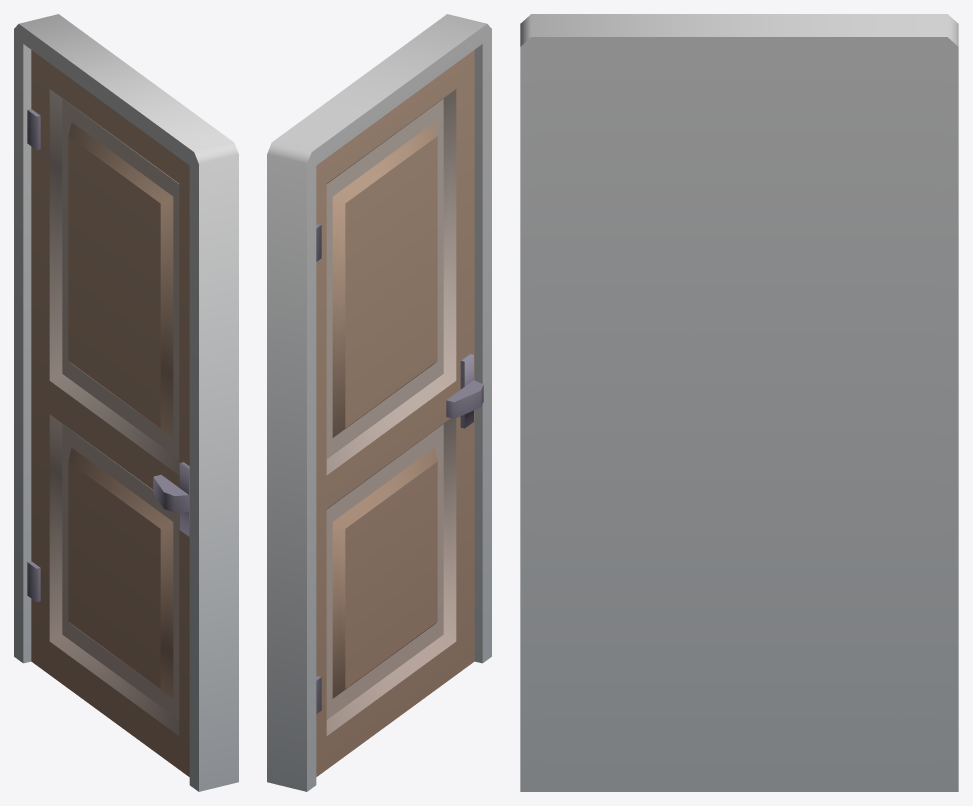
File: door-decorative (%wall).glb
3 views of the same model, side by side, from view 1: azimuth 30°, elevation 25°; view 2: azimuth 150°, elevation 25°; view 3: azimuth 270°, elevation 25° (orthographic). The views are drawn at different scales.
Visible parts, largest first — view 1: door-decorative (%wall); view 2: door-decorative (%wall); view 3: door-decorative (%wall).
Boxes of the visible parts, bbox=[...] form: door-decorative (%wall): bbox=[14, 14, 238, 791]; door-decorative (%wall): bbox=[267, 14, 491, 791]; door-decorative (%wall): bbox=[520, 14, 958, 791].
Bounding box in the file's own units: 0.1625 × 1.9 × 1.
